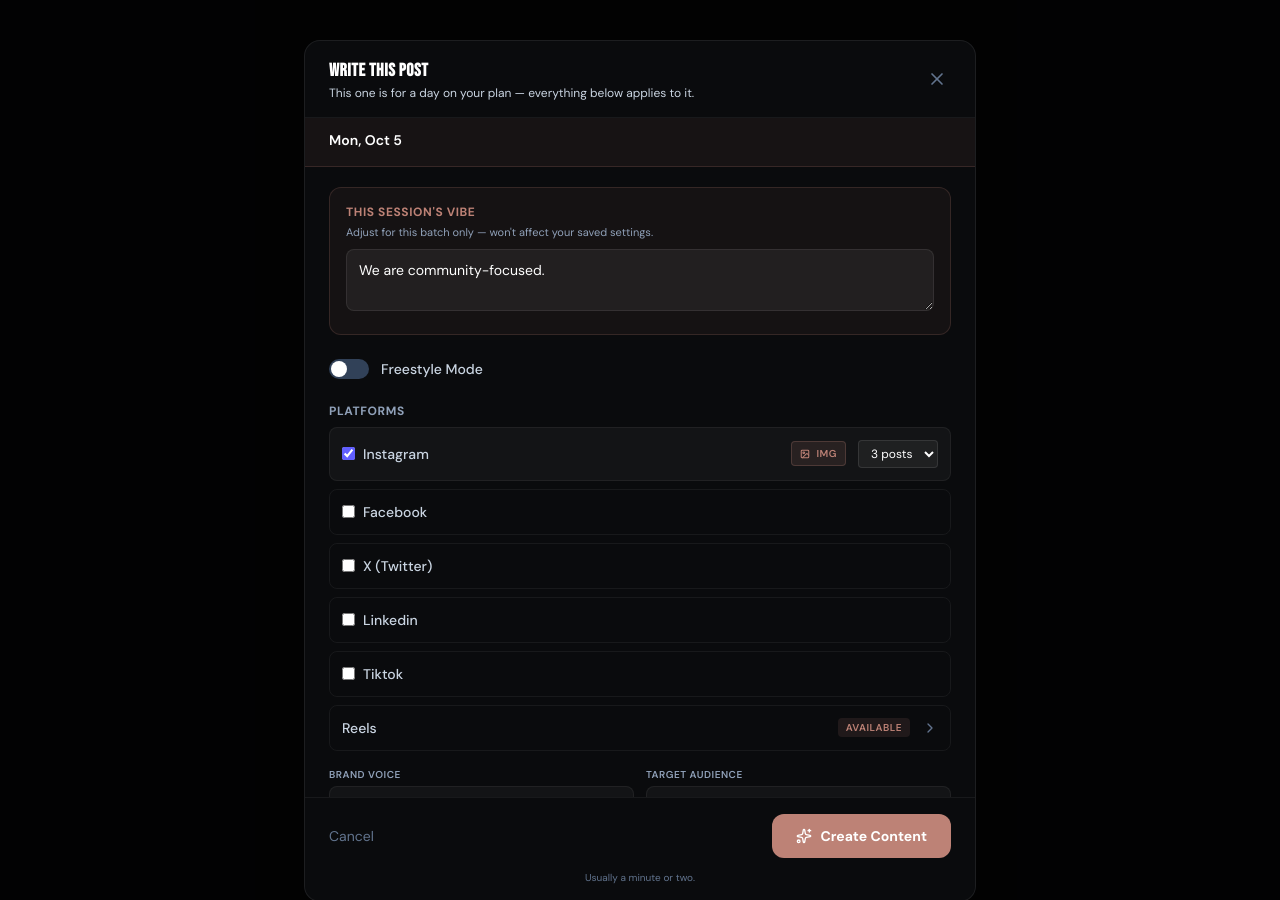
Test: every terminal state renders honestly (2026-09-21 full /review) › refused shows the generator's message and no Open button
Click the button "Create Content": (862, 836) [772,814,951,858]
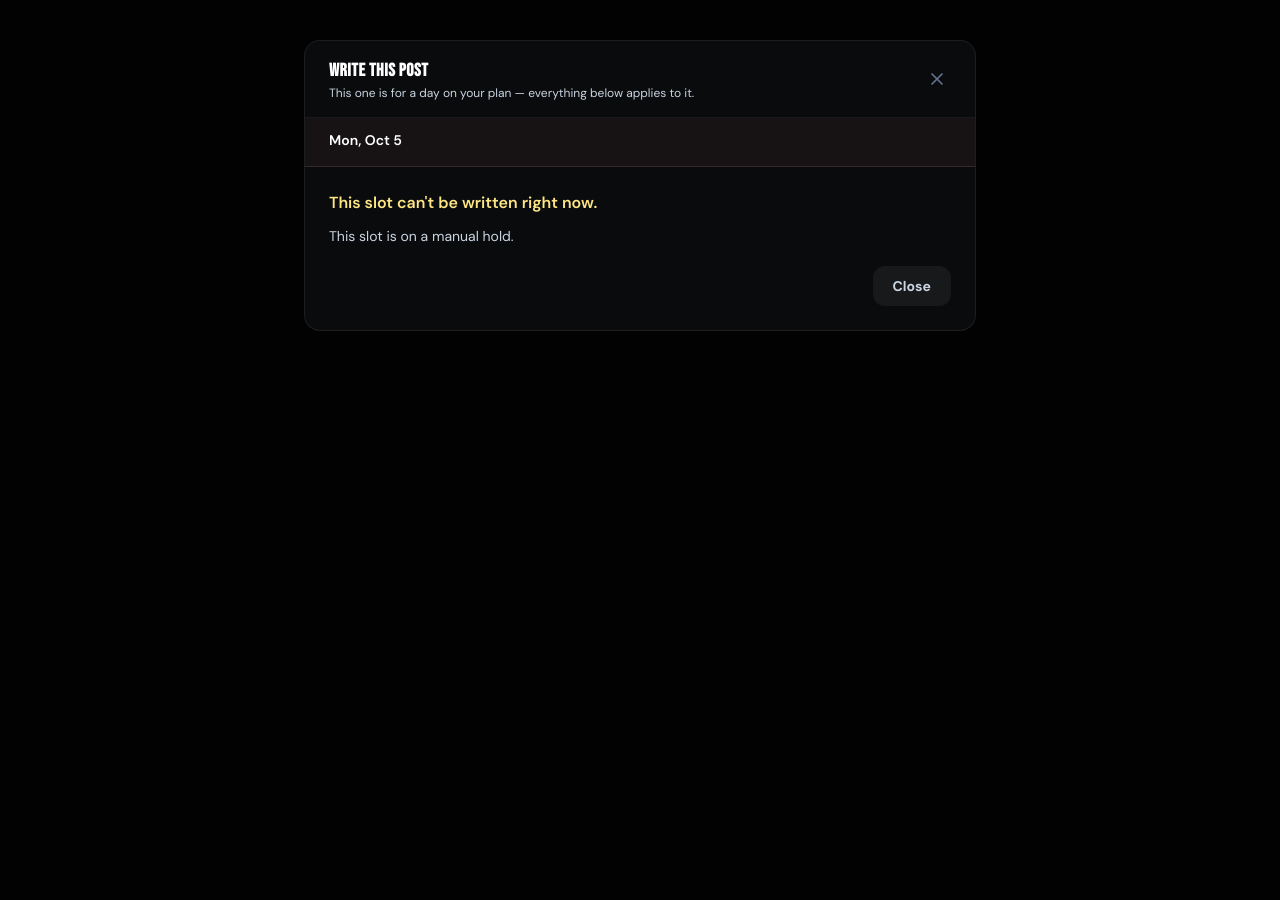
Expected: the text "This slot is on a manual hold." is shown, [329,227,514,245]
